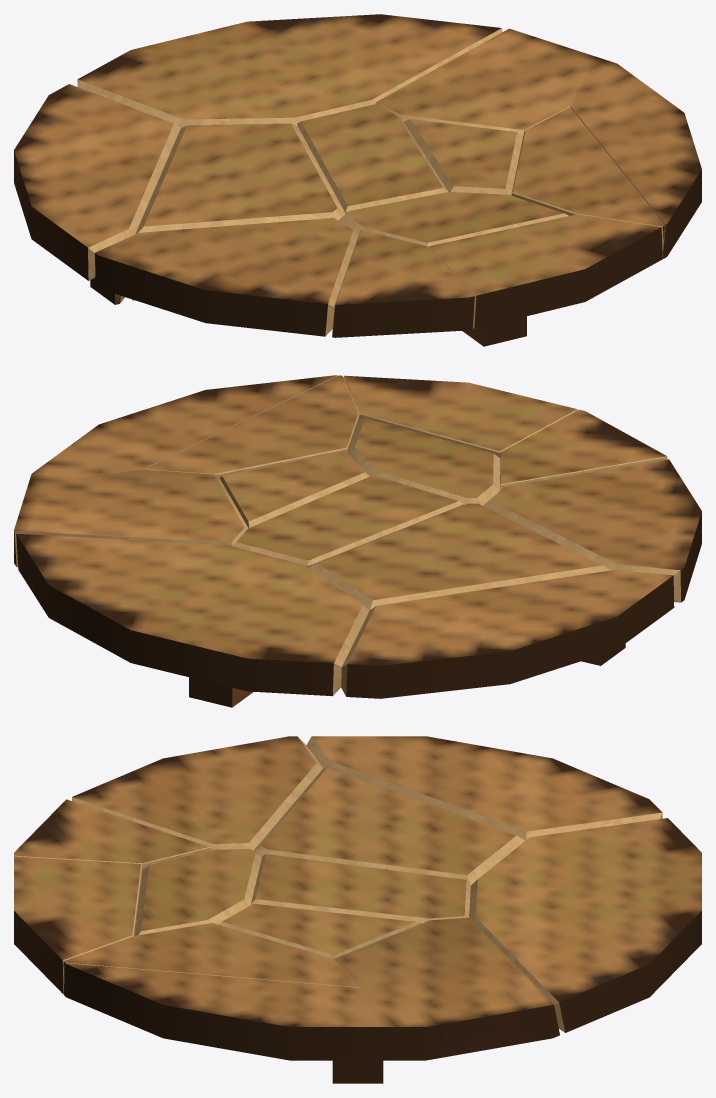
File: Kit_Tower_Floor_Fractured.fbx
3 renders of one model, top to bottom at view 1: azimuth 30°, elevation 25°; view 2: azimuth 150°, elevation 25°; view 3: azimuth 270°, elevation 25°, orthographic.
Visible parts, largest first — view 1: Kit_Tower_Floor_frag_08, Kit_Tower_Floor_frag_02, Kit_Tower_Floor_frag_03, Kit_Tower_Floor_frag_05, Kit_Tower_Floor_frag_11, Kit_Tower_Floor_frag_01, Kit_Tower_Floor_frag_04, Kit_Tower_Floor_frag_10, Kit_Tower_Floor_frag_06, Kit_Tower_Floor_frag_12, Kit_Tower_Floor_frag_09, Kit_Tower_Floor_frag_07; view 2: Kit_Tower_Floor_frag_08, Kit_Tower_Floor_frag_03, Kit_Tower_Floor_frag_02, Kit_Tower_Floor_frag_11, Kit_Tower_Floor_frag_01, Kit_Tower_Floor_frag_04, Kit_Tower_Floor_frag_05, Kit_Tower_Floor_frag_06, Kit_Tower_Floor_frag_12, Kit_Tower_Floor_frag_09, Kit_Tower_Floor_frag_10, Kit_Tower_Floor_frag_07; view 3: Kit_Tower_Floor_frag_08, Kit_Tower_Floor_frag_04, Kit_Tower_Floor_frag_03, Kit_Tower_Floor_frag_01, Kit_Tower_Floor_frag_11, Kit_Tower_Floor_frag_02, Kit_Tower_Floor_frag_05, Kit_Tower_Floor_frag_06, Kit_Tower_Floor_frag_12, Kit_Tower_Floor_frag_09, Kit_Tower_Floor_frag_10, Kit_Tower_Floor_frag_07.
Boxes of the visible parts, x1,y1,x2,y2 form: Kit_Tower_Floor_frag_08: (77,14,502,127); Kit_Tower_Floor_frag_02: (95,218,358,336); Kit_Tower_Floor_frag_03: (14,84,180,304); Kit_Tower_Floor_frag_05: (428,214,662,346); Kit_Tower_Floor_frag_11: (132,123,345,300); Kit_Tower_Floor_frag_01: (375,28,595,136); Kit_Tower_Floor_frag_04: (570,56,701,258); Kit_Tower_Floor_frag_10: (332,230,474,337); Kit_Tower_Floor_frag_06: (297,104,448,213); Kit_Tower_Floor_frag_12: (511,107,665,252); Kit_Tower_Floor_frag_09: (338,192,568,246); Kit_Tower_Floor_frag_07: (404,119,522,195); Kit_Tower_Floor_frag_08: (16,533,369,707); Kit_Tower_Floor_frag_03: (341,570,674,698); Kit_Tower_Floor_frag_02: (483,459,701,602); Kit_Tower_Floor_frag_11: (309,503,610,609); Kit_Tower_Floor_frag_01: (14,469,247,567); Kit_Tower_Floor_frag_04: (28,375,337,484); Kit_Tower_Floor_frag_05: (343,375,577,457); Kit_Tower_Floor_frag_06: (233,475,464,567); Kit_Tower_Floor_frag_12: (144,375,359,477); Kit_Tower_Floor_frag_09: (347,418,500,505); Kit_Tower_Floor_frag_10: (500,409,667,490); Kit_Tower_Floor_frag_07: (219,452,369,527); Kit_Tower_Floor_frag_08: (469,818,701,1032); Kit_Tower_Floor_frag_04: (64,963,451,1083); Kit_Tower_Floor_frag_03: (306,736,662,840); Kit_Tower_Floor_frag_01: (334,917,559,1083); Kit_Tower_Floor_frag_11: (253,767,525,884); Kit_Tower_Floor_frag_02: (72,736,323,850); Kit_Tower_Floor_frag_05: (14,856,142,994); Kit_Tower_Floor_frag_06: (251,854,470,923); Kit_Tower_Floor_frag_12: (63,923,359,987); Kit_Tower_Floor_frag_09: (134,849,261,935); Kit_Tower_Floor_frag_10: (14,799,210,869); Kit_Tower_Floor_frag_07: (218,903,420,958).
Size of what is drawn, in the model's own units: 2.98 by 0.3604 by 2.98.
Materials: 2 (2 with a texture image).
